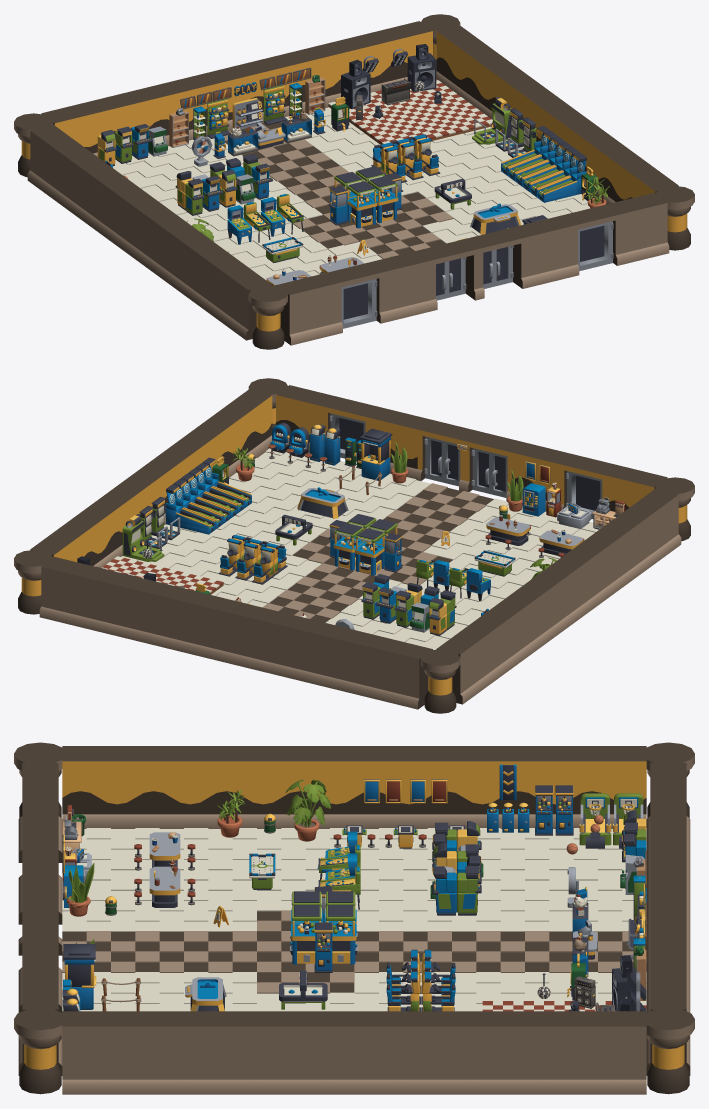
Rendered from game-hall.glb.
The picture shows the model from 3 angles, top to bottom: view 1: azimuth 30°, elevation 25°; view 2: azimuth 150°, elevation 25°; view 3: azimuth 270°, elevation 25°; orthographic projection. The views are drawn at different scales.
Parts seen in each view (by area): view 1: wall (×28), wall-window (×2), floor (×10), wall-door (×2), column (×4), floor-tiles (×9), skee-ball (×6), claw-machine (×3), pinball (×4), speaker-large (×2), arcade-upright-beta (×3), prize-wall (×2) (+15 smaller); view 2: wall (×28), floor (×12), floor-tiles (×11), wall-door (×2), column (×4), wall-window (×2), skee-ball (×6), claw-machine (×3), driving-cab (×3), table (×2), ticket-booth, dance-stage (×2) (+11 smaller); view 3: wall (×28), floor-tiles (×58), floor (×22), column (×4), claw-machine (×6), wall-door (×2), basketball-game (×2), wall-window (×2), table (×2), monstera-potted-large, ticket-booth, driving-cab (×2) (+12 smaller).
Part boxes in pixels (x1,y1,x2,y2): wall (×28): [27, 21, 678, 345]; wall-window (×2): [323, 204, 621, 333]; floor (×10): [269, 146, 453, 254]; wall-door (×2): [418, 227, 527, 310]; column (×4): [14, 14, 694, 349]; floor-tiles (×9): [137, 139, 566, 238]; skee-ball (×6): [501, 126, 586, 202]; claw-machine (×3): [328, 176, 398, 228]; pinball (×4): [227, 194, 303, 244]; speaker-large (×2): [341, 53, 436, 108]; arcade-upright-beta (×3): [131, 124, 273, 211]; prize-wall (×2): [207, 85, 287, 138]; wall (×28): [30, 385, 681, 709]; floor (×12): [269, 483, 493, 618]; floor-tiles (×11): [161, 466, 488, 603]; wall-door (×2): [416, 419, 525, 500]; column (×4): [14, 378, 694, 713]; wall-window (×2): [323, 396, 619, 518]; skee-ball (×6): [165, 457, 251, 534]; claw-machine (×3): [333, 523, 403, 575]; driving-cab (×3): [218, 538, 274, 584]; table (×2): [486, 517, 583, 555]; ticket-booth: [359, 428, 392, 480]; dance-stage (×2): [139, 497, 180, 548]; wall (×28): [18, 746, 690, 1094]; floor-tiles (×58): [62, 828, 646, 1011]; floor (×22): [62, 910, 633, 993]; column (×4): [14, 742, 694, 1094]; claw-machine (×6): [290, 785, 573, 972]; wall-door (×2): [18, 855, 62, 972]; basketball-game (×2): [579, 793, 643, 848]; wall-window (×2): [18, 793, 62, 1012]; table (×2): [149, 832, 180, 907]; monstera-potted-large: [285, 779, 330, 841]; ticket-booth: [63, 944, 96, 1009]; driving-cab (×2): [386, 971, 455, 1011].
Size of the model in its own units: 13.29 by 1.45 by 13.29.
1 material, 1 textured.
